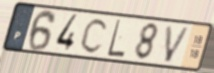4: (53, 12, 81, 54)
6: (25, 7, 58, 53)
8: (134, 21, 160, 62)
C: (78, 16, 110, 55)
L: (105, 17, 126, 59)
V: (163, 23, 193, 64)
